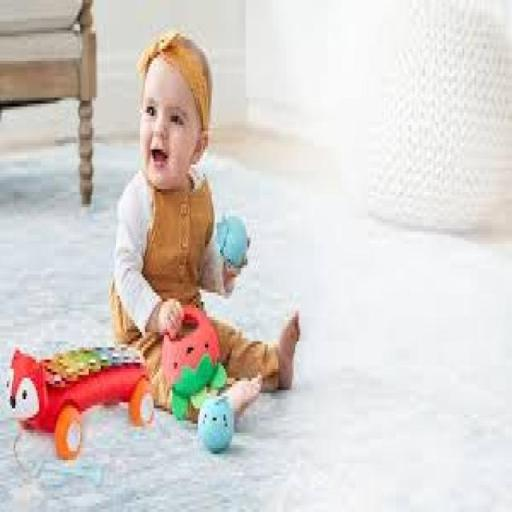baby: (110, 32, 298, 391)
